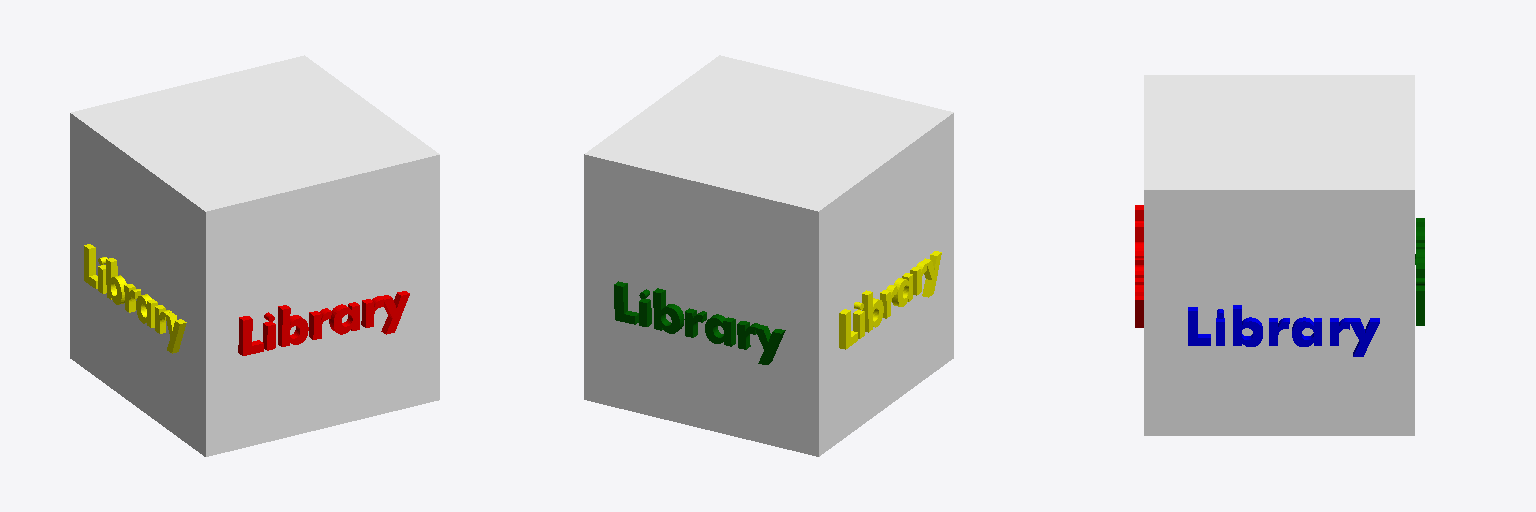
Rendered from library_pointer3.obj.
The picture shows the model from 3 angles: view 1: azimuth 30°, elevation 25°; view 2: azimuth 150°, elevation 25°; view 3: azimuth 270°, elevation 25°; orthographic projection.
Size of the model in its own units: 3 by 2.82 by 3.02.